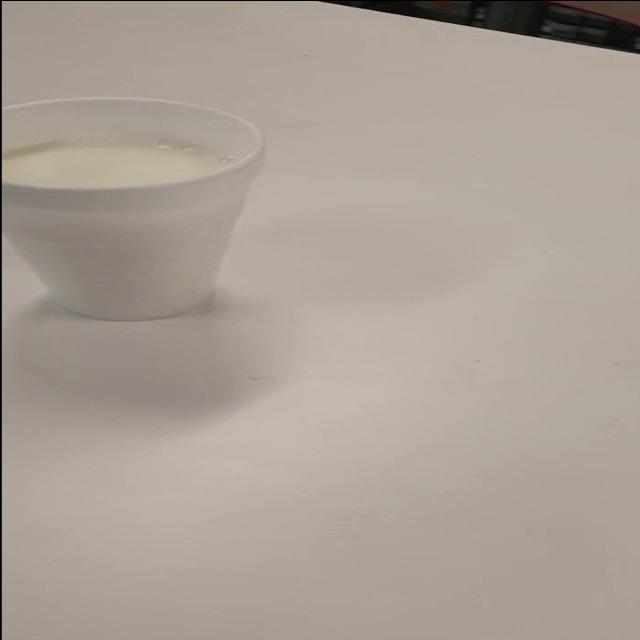Milk: (1, 74, 333, 340)
